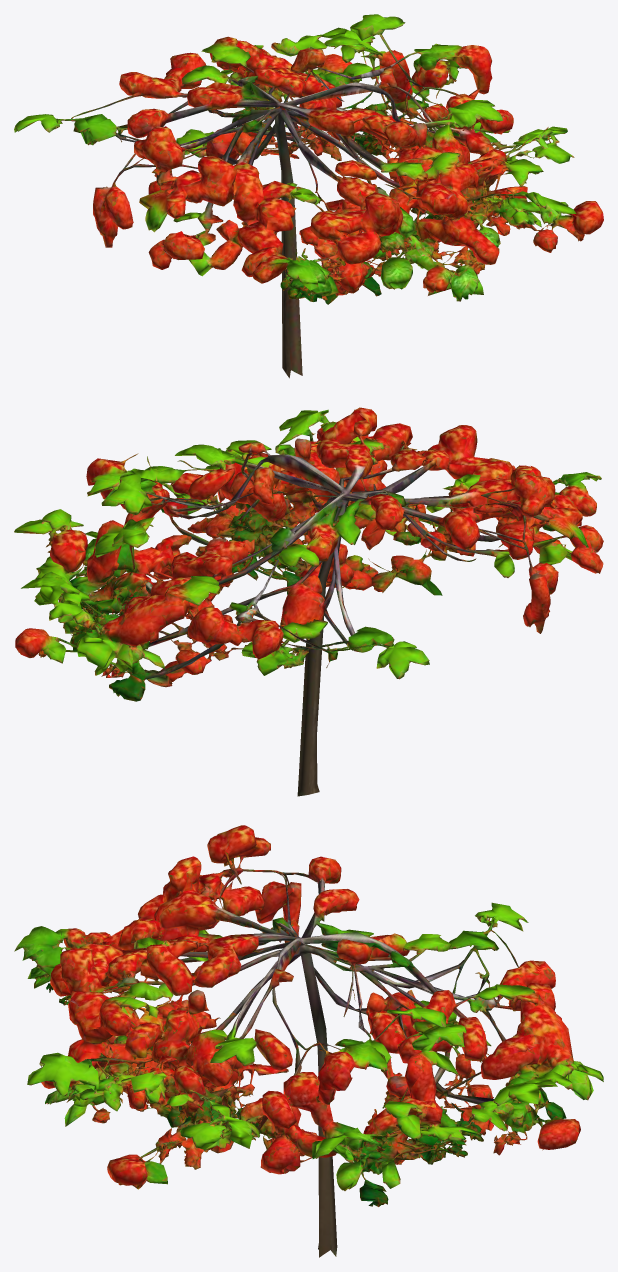
File: phuong_d.glb
The picture shows the model from 3 angles, top to bottom: view 1: azimuth 30°, elevation 25°; view 2: azimuth 150°, elevation 25°; view 3: azimuth 270°, elevation 25°; orthographic projection. The views are drawn at different scales.
Parts seen in each view (by area): view 1: Mesh_0; view 2: Mesh_0; view 3: Mesh_0.
Part boxes in pixels (bbox=[...]): Mesh_0: bbox=[14, 14, 603, 378]; Mesh_0: bbox=[14, 407, 603, 796]; Mesh_0: bbox=[14, 825, 603, 1257].
Size of the model in its own units: 1.79 by 1.2 by 1.9.
1 material, 1 textured.
